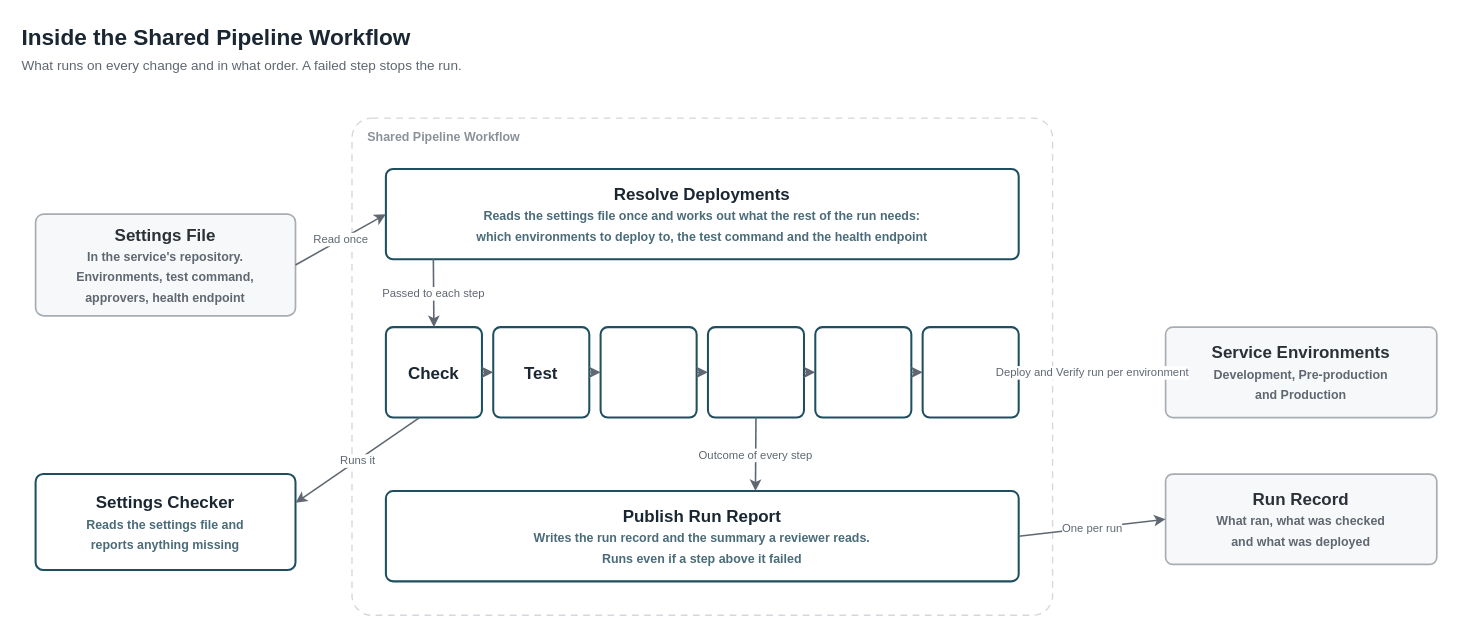
Image size: 1462x635. Some labels were removed from this diagram. Each missing label, with the centre of its shape:
"Build" goes at (755,372).
"Deploy" goes at (863,372).
"Scan" goes at (648,372).
"Verify" goes at (970,372).
